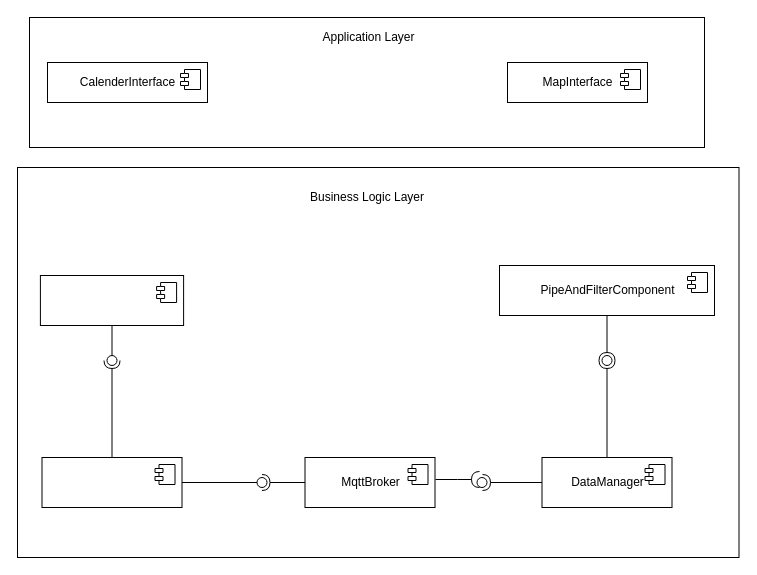
Some shapes in this 757 by 575 pixel diagram are drawn without their labels. The box of each missing label's shape, as (x1, y1, x2, y2) in pixels:
DataGenerator: (39, 274, 184, 326)
RouteHandler: (41, 456, 182, 508)
